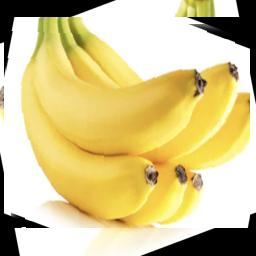Banana Fresh: (5, 18, 251, 229)
